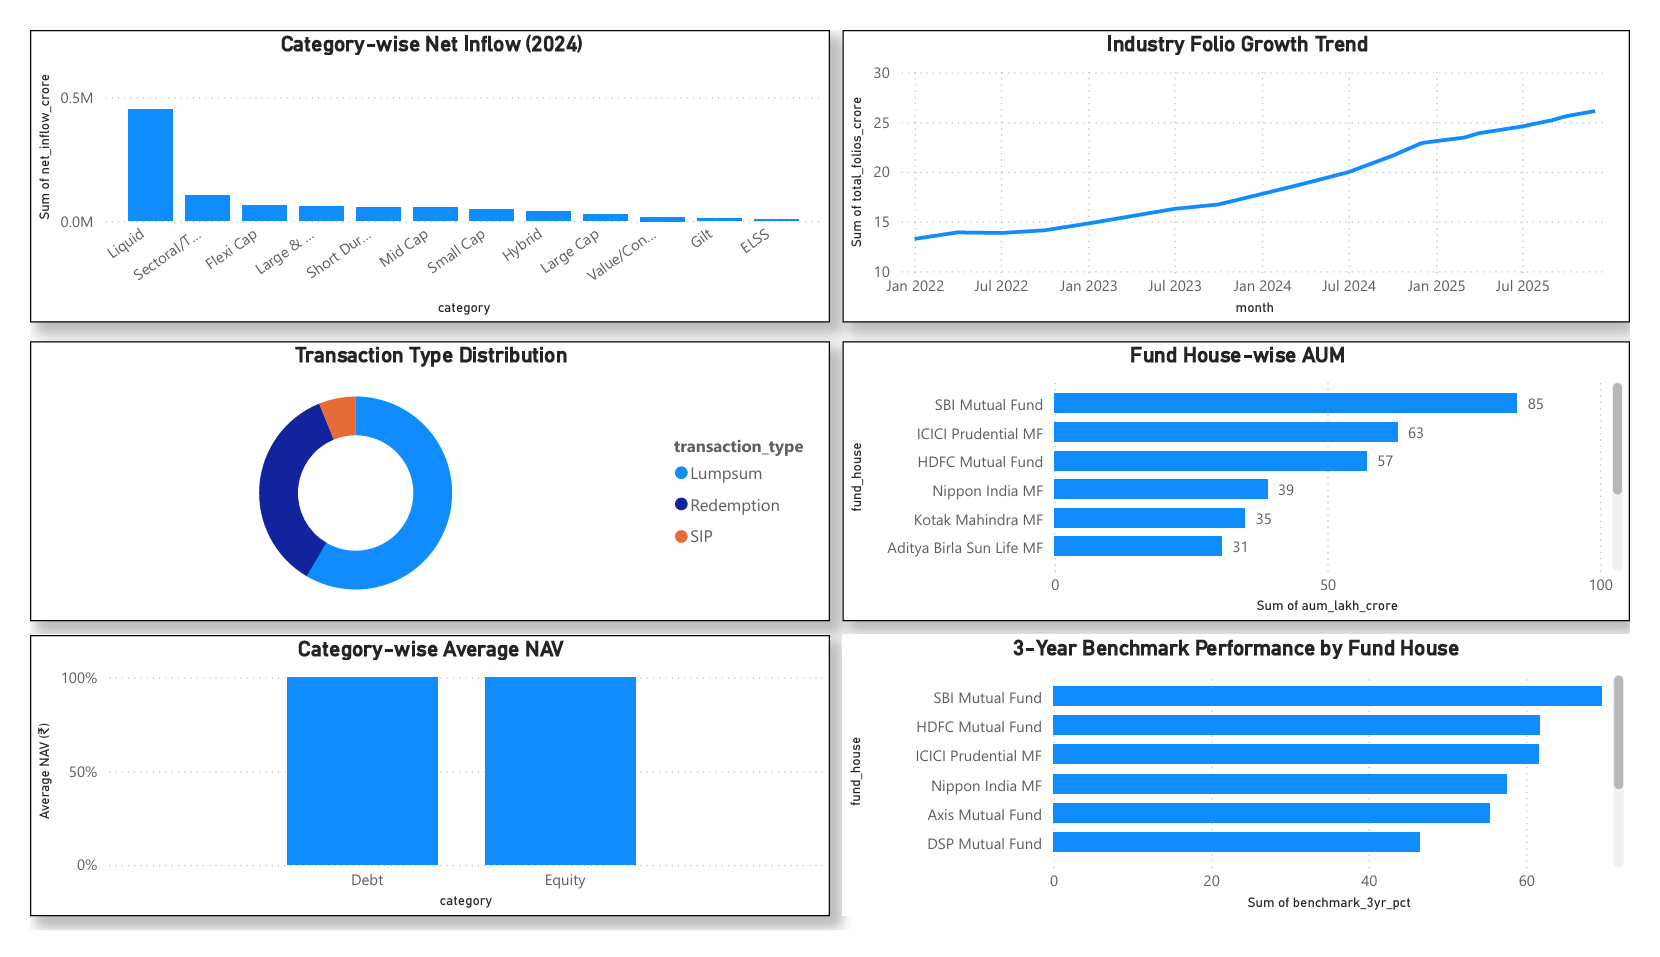

The page's visual inventory and layout, read from the dashboard file:
{"tool":"powerbi","page":{"name":"Detailed Analysis","canvas":[1280,720],"ordinal":1},"visuals":[{"type":"clusteredColumnChart","title":"Category-wise Net Inflow (2024)","fields":{"Category":["category_dashboard.category"],"Y":["Sum(category_dashboard.net_inflow_crore)"]},"box":[0,0,640,234.1],"z":0},{"type":"lineChart","title":"Industry Folio Growth Trend","fields":{"Y":["Sum(folio_dashboard.total_folios_crore)"],"Category":["folio_dashboard.month"]},"box":[649.6,0,630.4,234.1],"z":1000},{"type":"donutChart","title":"Transaction Type Distribution","fields":{"Category":["transaction_dashboard.transaction_type"],"Y":["Sum(transaction_dashboard.amount_inr)"]},"box":[0,248.6,640,224.5],"z":2000},{"type":"clusteredBarChart","title":"Fund House-wise AUM","fields":{"Category":["aum_dashboard.fund_house"],"Y":["Sum(aum_dashboard.aum_lakh_crore)"]},"box":[649.6,248.6,630.4,224.5],"z":3000},{"type":"hundredPercentStackedColumnChart","title":"Category-wise Average NAV","fields":{"Category":["nav_dashboard.category"],"Y":["Avg(nav_dashboard.nav)"]},"box":[0,484,640,225],"z":4000},{"type":"clusteredBarChart","title":"3-Year Benchmark Performance by Fund House","fields":{"Category":["performance_dashboard.fund_house"],"Y":["Sum(performance_dashboard.benchmark_3yr_pct)"]},"box":[650,484,630,225],"z":5000}]}

Visuals, with their boxes in screenshot pixels (x1, y1, x2, y2), scaled from the page's 1280x720 canvas onto the 1660x957 screenshot:
"Category-wise Net Inflow (2024)" clusteredColumnChart: [x1=0, y1=0, x2=830, y2=311]
"Industry Folio Growth Trend" lineChart: [x1=842, y1=0, x2=1659, y2=311]
"Transaction Type Distribution" donutChart: [x1=0, y1=330, x2=830, y2=629]
"Fund House-wise AUM" clusteredBarChart: [x1=842, y1=330, x2=1659, y2=629]
"Category-wise Average NAV" hundredPercentStackedColumnChart: [x1=0, y1=643, x2=830, y2=942]
"3-Year Benchmark Performance by Fund House" clusteredBarChart: [x1=843, y1=643, x2=1659, y2=942]
